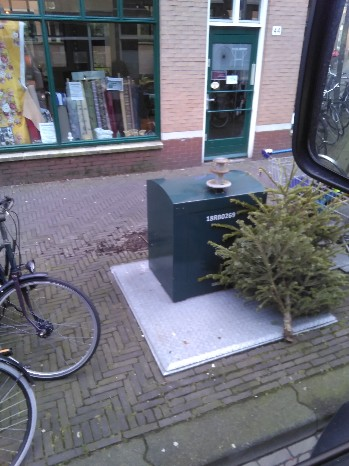Container: (148, 168, 227, 298)
GFT: (237, 181, 343, 326)
